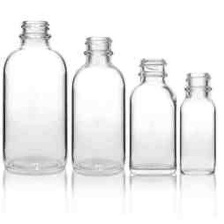bottle: (0, 12, 69, 177), (69, 33, 128, 178), (126, 52, 177, 174), (179, 70, 219, 178)
